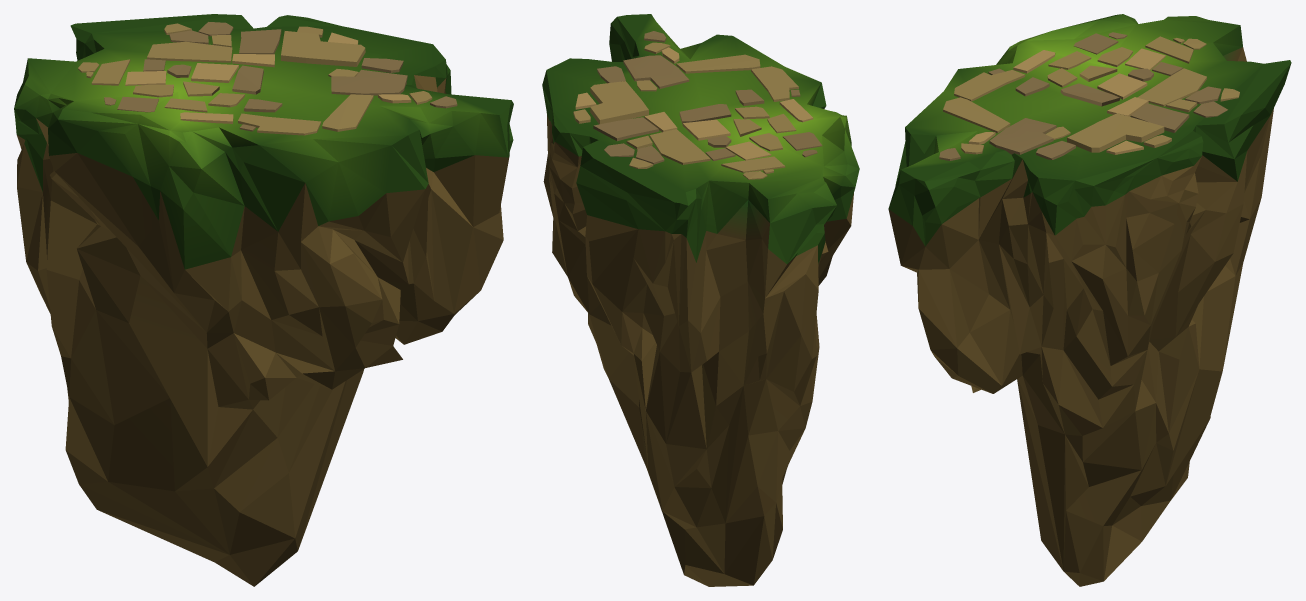
The model's file is ENV_RTS_Starting_Island_01.fbx.
The picture shows the model from 3 angles, left to right: view 1: azimuth 30°, elevation 25°; view 2: azimuth 150°, elevation 25°; view 3: azimuth 270°, elevation 25°; orthographic projection. The views are drawn at different scales.
Parts seen in each view (by area): view 1: ENV_RTS_Starting_Island_01; view 2: ENV_RTS_Starting_Island_01; view 3: ENV_RTS_Starting_Island_01.
Part boxes in pixels (<box>): ENV_RTS_Starting_Island_01: <box>14,14,513,586</box>; ENV_RTS_Starting_Island_01: <box>542,14,859,586</box>; ENV_RTS_Starting_Island_01: <box>888,14,1291,586</box>.
Size of the model in its own units: 1654 by 2147 by 1583.
